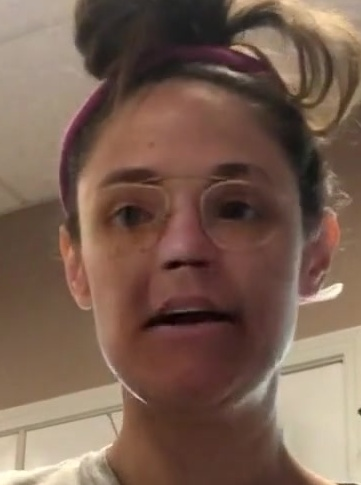n_f: (149, 178, 221, 278)
